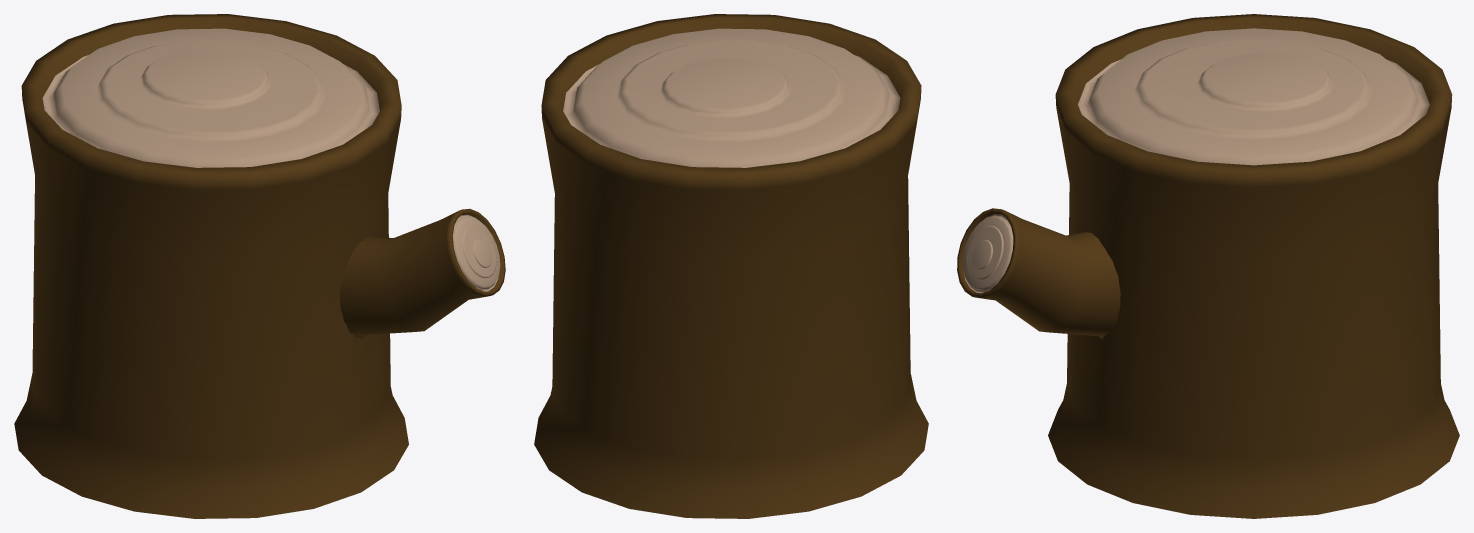
File: M_flip_stump.fbx
3 renders of one model, left to right at view 1: azimuth 30°, elevation 25°; view 2: azimuth 150°, elevation 25°; view 3: azimuth 270°, elevation 25°, orthographic.
Parts seen in each view (by area): view 1: pCylinder3, pCylinder4; view 2: pCylinder3; view 3: pCylinder3, pCylinder4.
Part boxes in pixels (x1=…): pCylinder3: x1=14, y1=14, x2=408, y2=518; pCylinder4: x1=339, y1=208, x2=505, y2=338; pCylinder3: x1=534, y1=14, x2=928, y2=518; pCylinder3: x1=1048, y1=14, x2=1459, y2=518; pCylinder4: x1=957, y1=208, x2=1120, y2=338.
Size of the model in its own units: 25.86 by 25.86 by 32.9.
